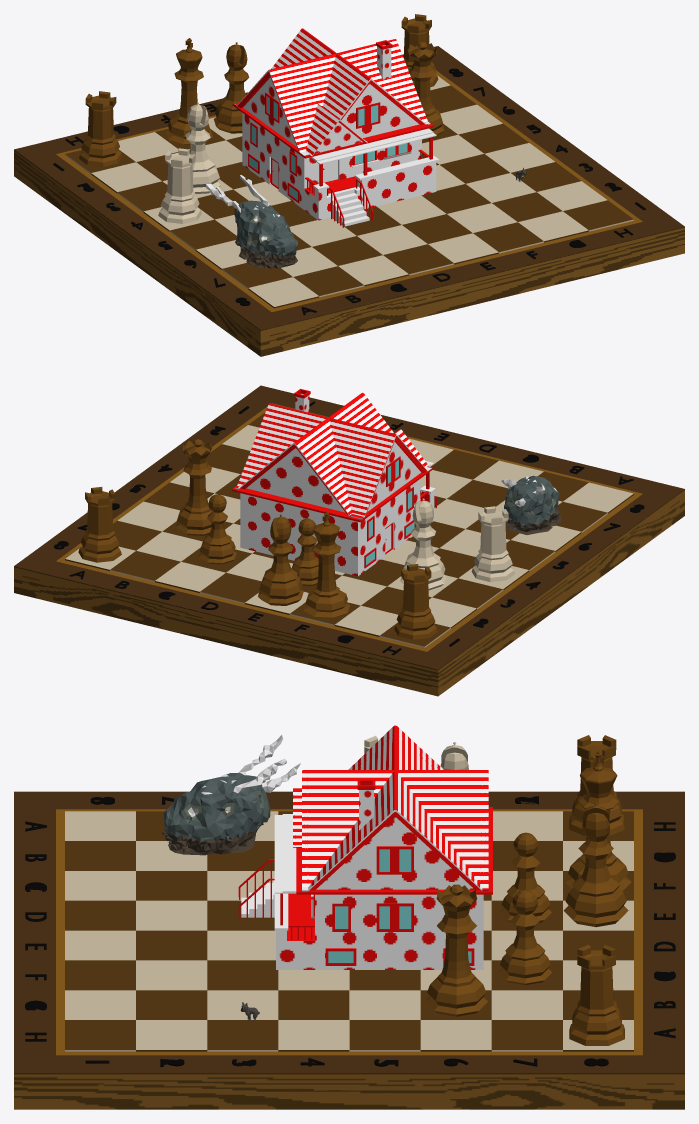
3 views of the same model, one above another, from view 1: azimuth 30°, elevation 25°; view 2: azimuth 150°, elevation 25°; view 3: azimuth 270°, elevation 25° (orthographic). The views are drawn at different scales.
Visible parts, largest first — view 1: Cube.002, Cube.196, OBJRANDOM_METEORITE; view 2: Cube.002, Cube.196, OBJRANDOM_METEORITE; view 3: Cube.002, Cube.196, OBJRANDOM_METEORITE.
Boxes of the visible parts, bbox=[...] form: Cube.002: bbox=[14, 14, 684, 356]; Cube.196: bbox=[232, 28, 439, 227]; OBJRANDOM_METEORITE: bbox=[205, 175, 298, 268]; Cube.002: bbox=[14, 385, 684, 696]; Cube.196: bbox=[232, 389, 436, 576]; OBJRANDOM_METEORITE: bbox=[501, 475, 561, 534]; Cube.002: bbox=[14, 735, 684, 1109]; Cube.196: bbox=[238, 725, 492, 969]; OBJRANDOM_METEORITE: bbox=[162, 735, 300, 855].
Size of the model in its own units: 3981 by 1488 by 4012.
24 materials, 3 textured.
